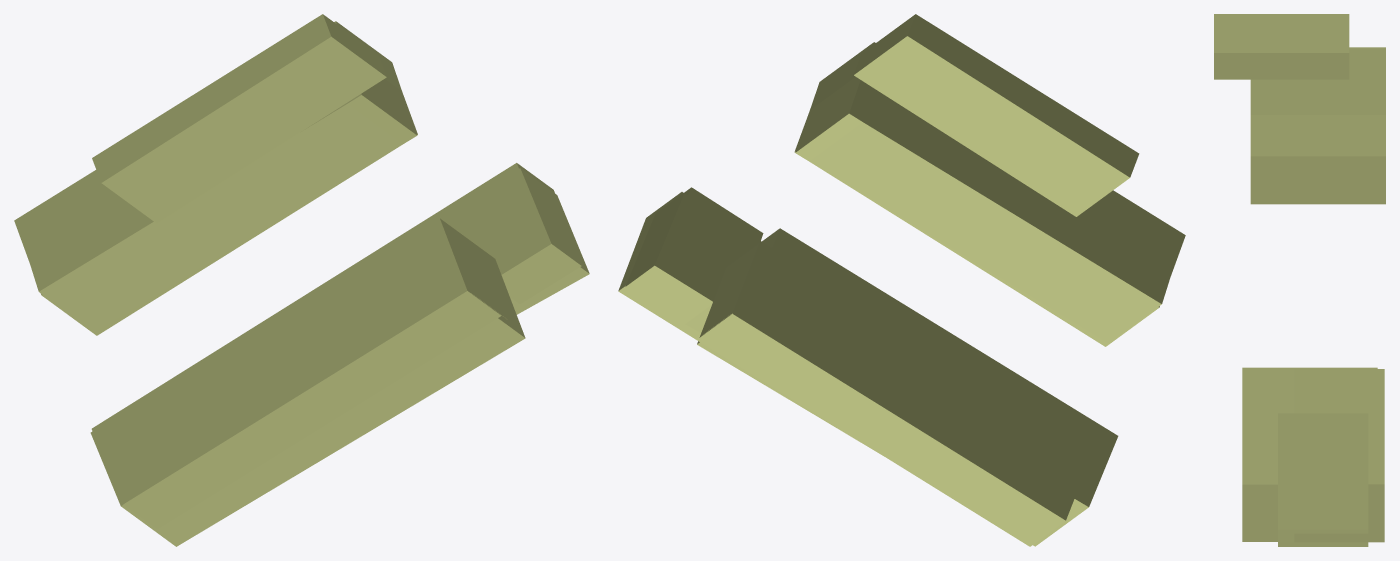
The picture shows the model from 3 angles, left to right: view 1: azimuth 30°, elevation 25°; view 2: azimuth 150°, elevation 25°; view 3: azimuth 270°, elevation 25°; orthographic projection. The views are drawn at different scales.
Visible parts, largest first — view 1: 0_1_3_2_1_1_2_1_0; view 2: 0_1_3_2_1_1_2_1_0; view 3: 0_1_3_2_1_1_2_1_0.
Part boxes in pixels (<box>): 0_1_3_2_1_1_2_1_0: <box>14,14,589,546</box>; 0_1_3_2_1_1_2_1_0: <box>618,14,1185,546</box>; 0_1_3_2_1_1_2_1_0: <box>1214,14,1385,546</box>.
Size of the model in its own units: 49.73 by 40.63 by 11.42.
